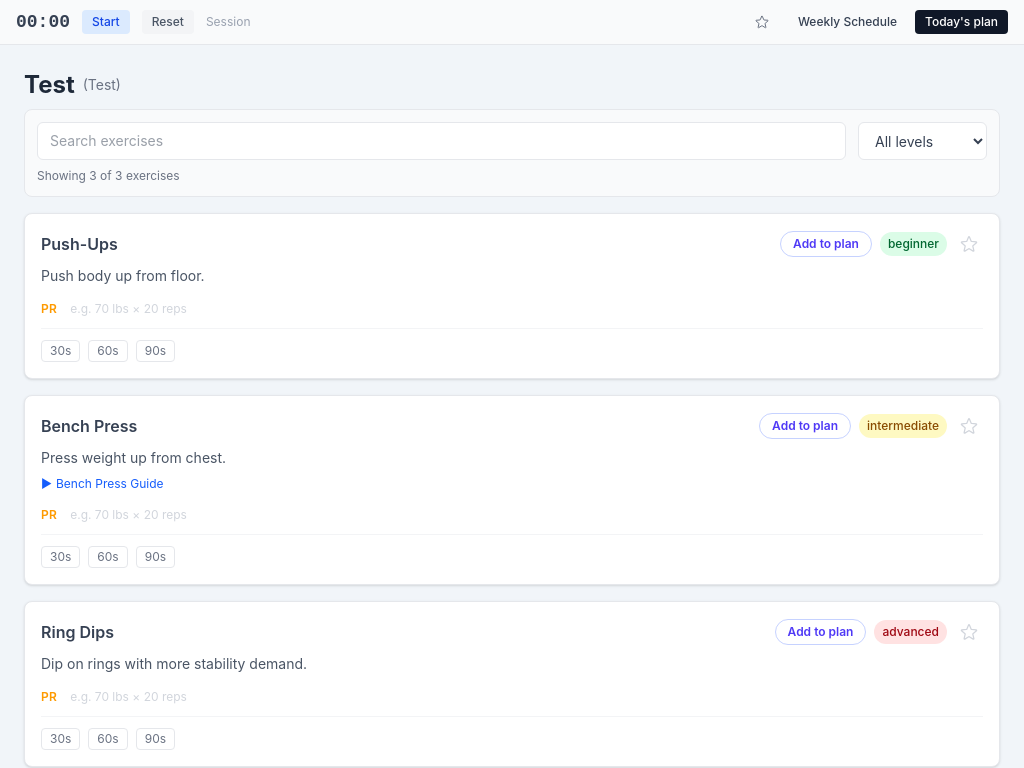
Scenario: ExercisePanel › filters exercises by search query
Type "push" into the search field with placeholder "Search exercises".
click(442, 141); type("push")  # box [37,122,846,160]
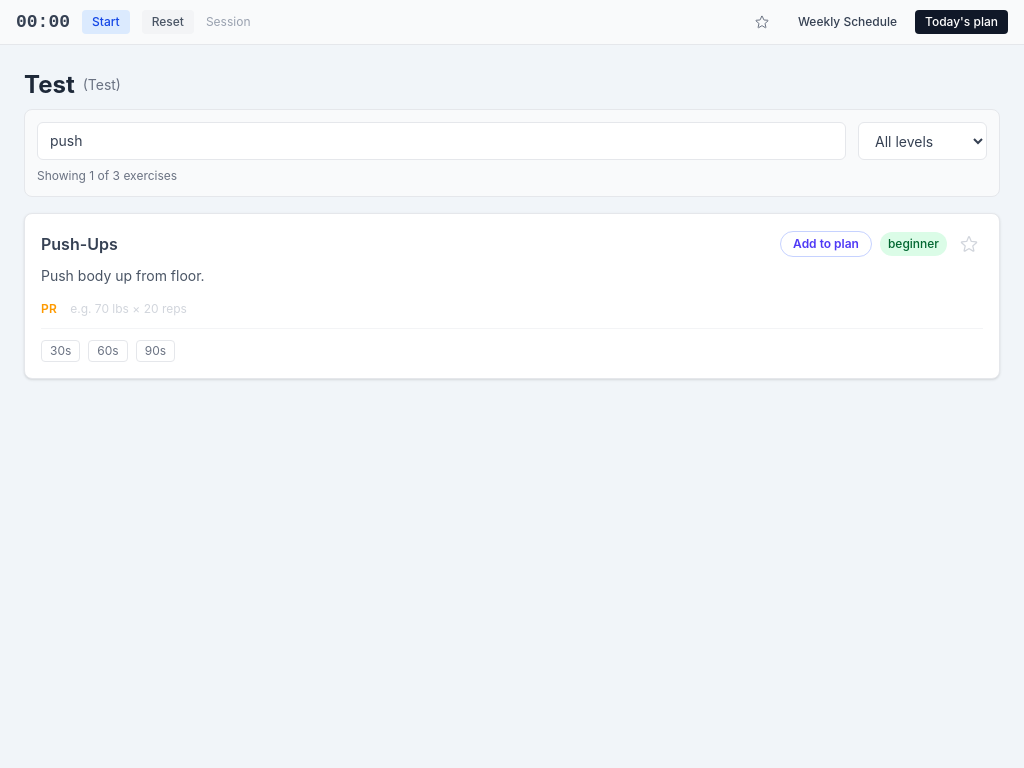
Expected: the text "Push-Ups" is shown, [41,232,118,256]
Expected: the text "Bench Press Guide" is gone
Expected: the text "Bench Press" is gone
